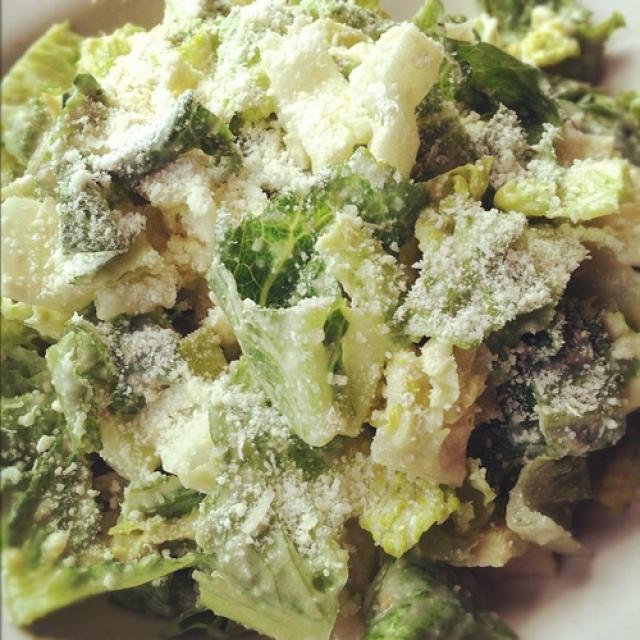蔬菜料理: (5, 2, 631, 620)
